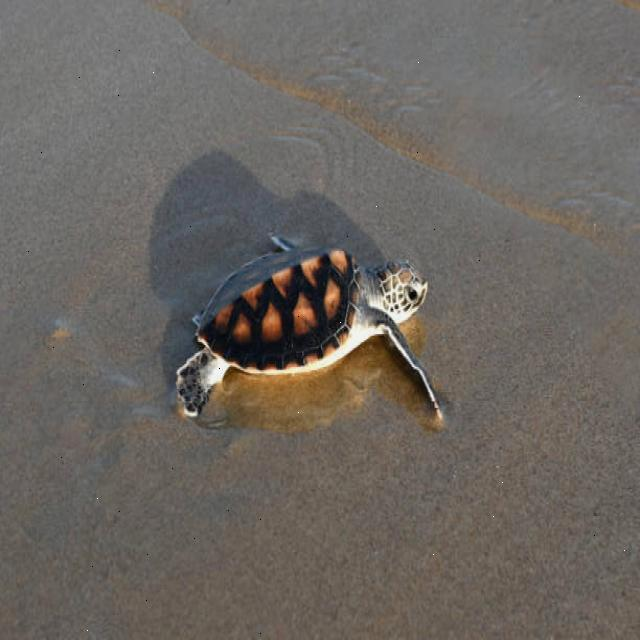tortoise: (142, 202, 478, 456)
